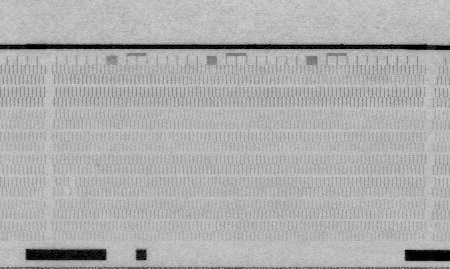Broken hole: (61, 177, 82, 197)
